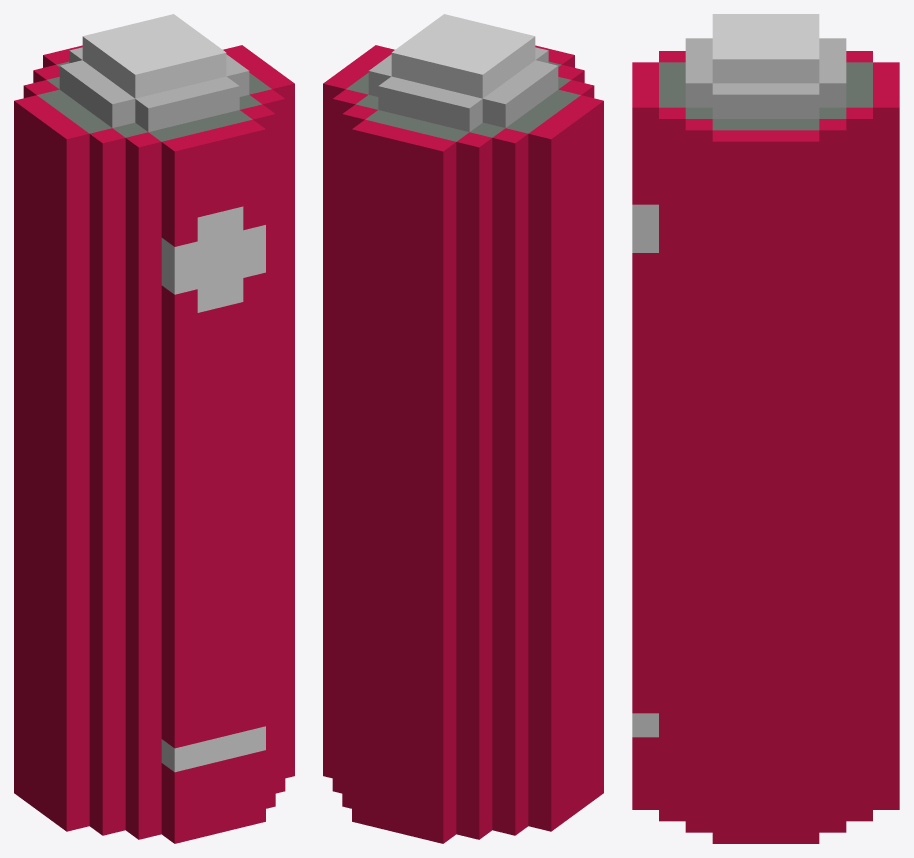
Rendered from battery_1_1.2r.obj.
The picture shows the model from 3 angles, left to right: view 1: azimuth 30°, elevation 25°; view 2: azimuth 150°, elevation 25°; view 3: azimuth 270°, elevation 25°; orthographic projection.
Size of the model in its own units: 1 by 3.1 by 1.
Materials: 1 (1 with a texture image).
